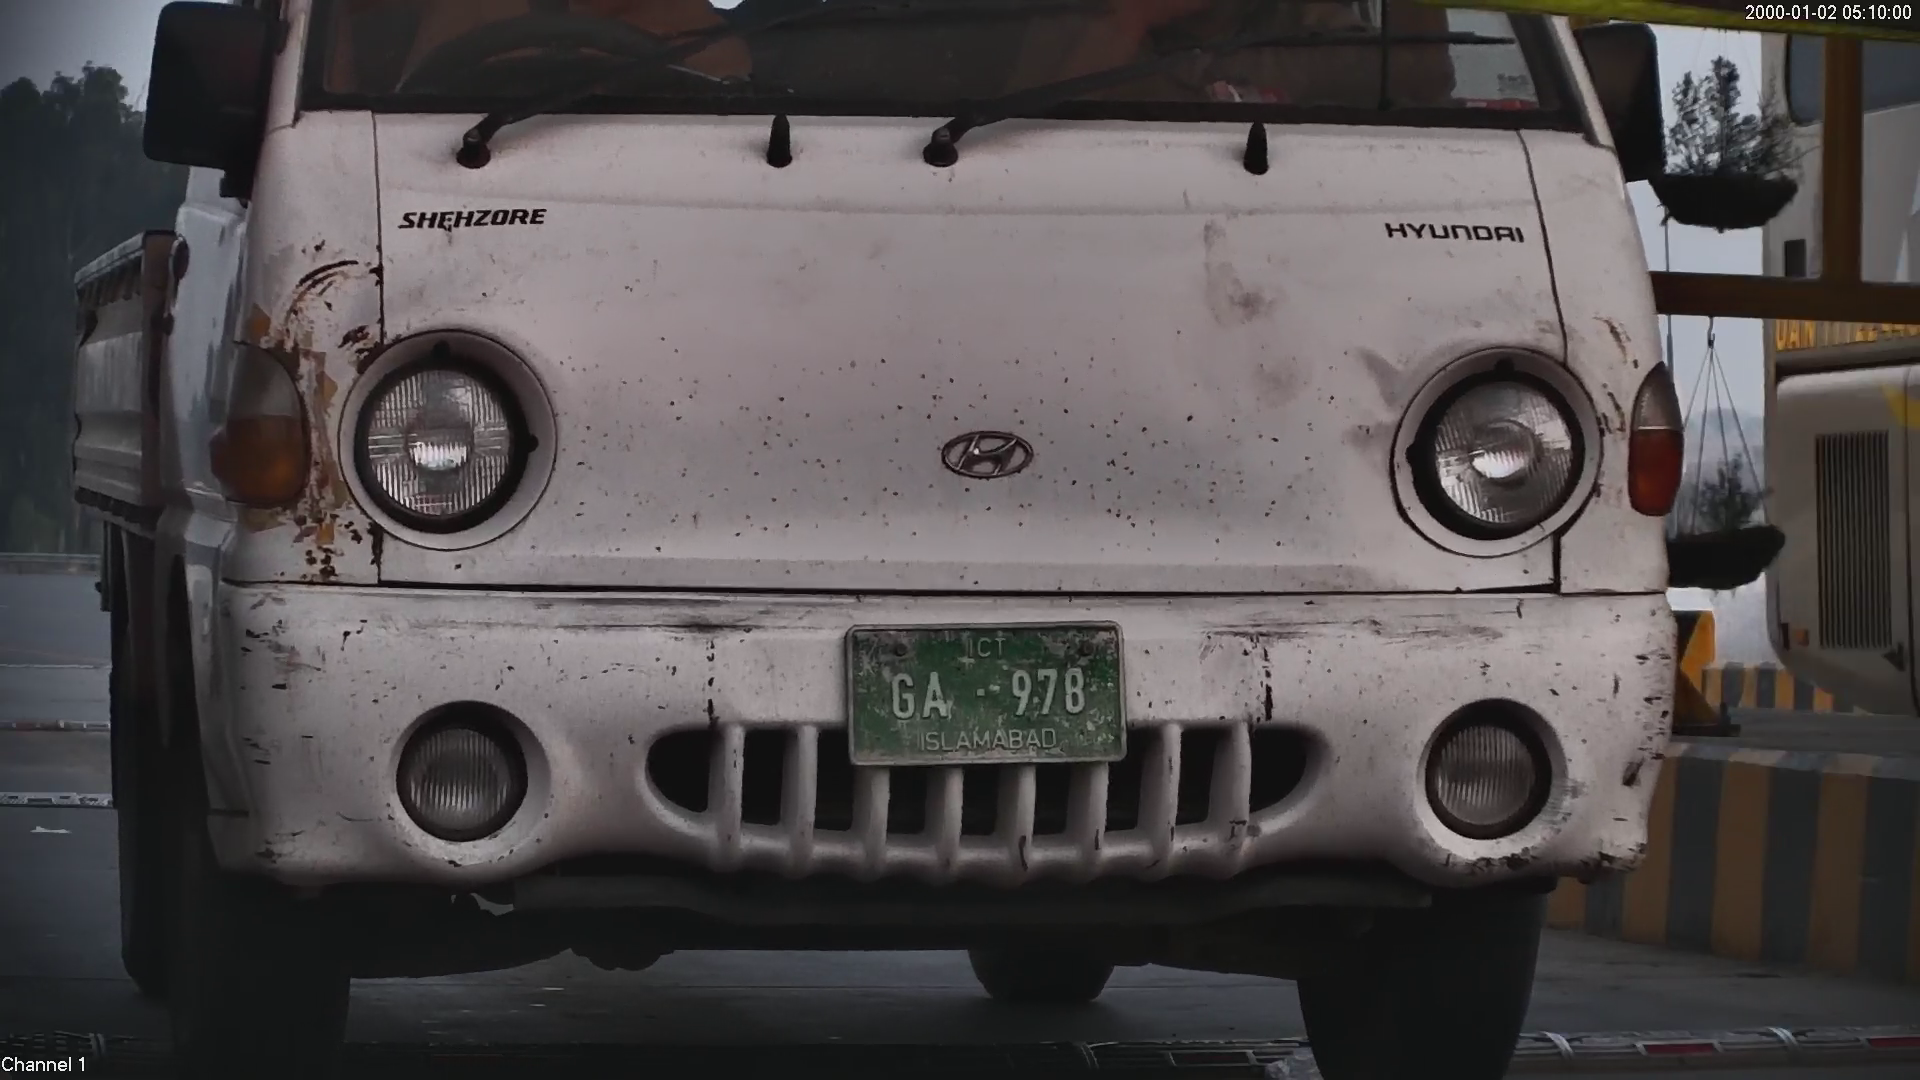Number_Plate: (831, 614, 1138, 776)
